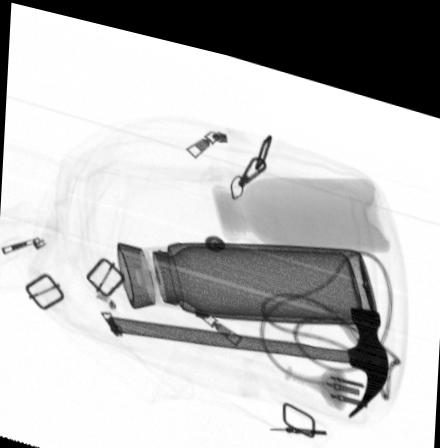Hammer: (107, 288, 390, 403)
